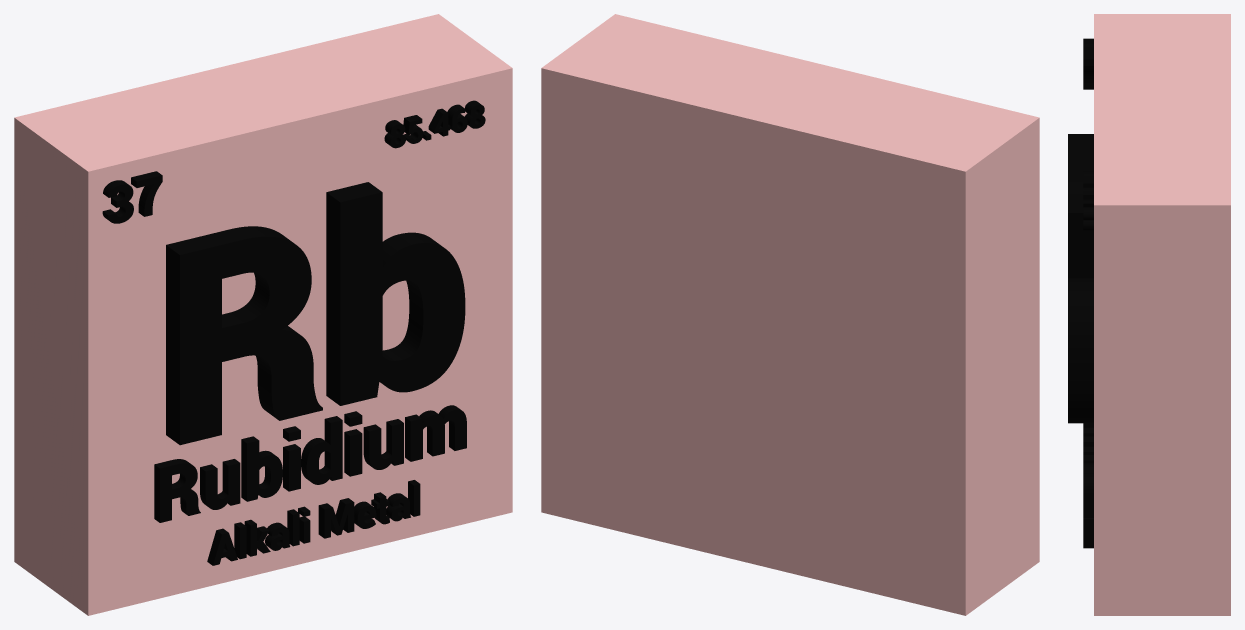
3 renders of one model, left to right at view 1: azimuth 30°, elevation 25°; view 2: azimuth 150°, elevation 25°; view 3: azimuth 270°, elevation 25°, orthographic. The views are drawn at different scales.
Parts seen in each view (by area): view 1: Cube, Text, Text.001, Text.002, Text.004, Text.003; view 2: Cube; view 3: Cube, Text, Text.001, Text.004, Text.003, Text.002.
Part boxes in pixels (x1=…): Cube: x1=14, y1=14, x2=512, y2=615; Text: x1=166, y1=182, x2=465, y2=445; Text.001: x1=154, y1=405, x2=466, y2=522; Text.002: x1=207, y1=480, x2=420, y2=565; Text.004: x1=384, y1=100, x2=485, y2=148; Text.003: x1=102, y1=171, x2=162, y2=223; Cube: x1=541, y1=14, x2=1039, y2=615; Cube: x1=1094, y1=14, x2=1230, y2=615; Text: x1=1068, y1=134, x2=1093, y2=423; Text.001: x1=1083, y1=423, x2=1093, y2=517; Text.004: x1=1083, y1=171, x2=1093, y2=230; Text.003: x1=1083, y1=38, x2=1093, y2=89; Text.002: x1=1083, y1=518, x2=1093, y2=548.
Size of the model in its own units: 178 by 178 by 63.95.
